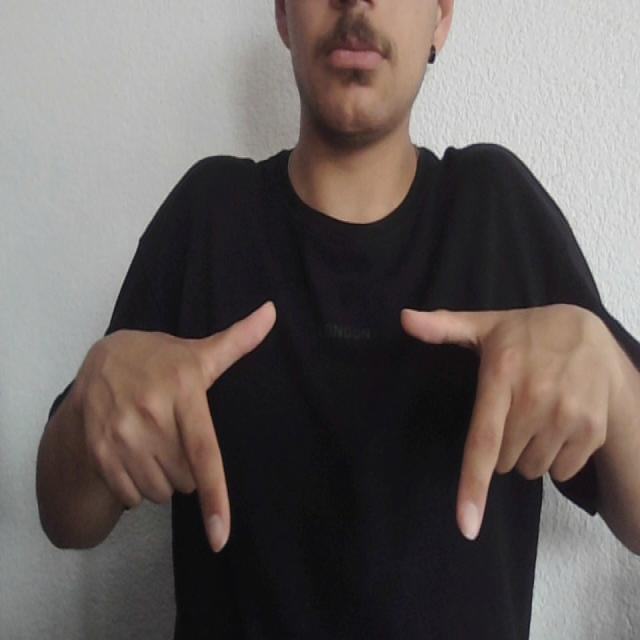Nerede: (172, 292, 517, 561)
